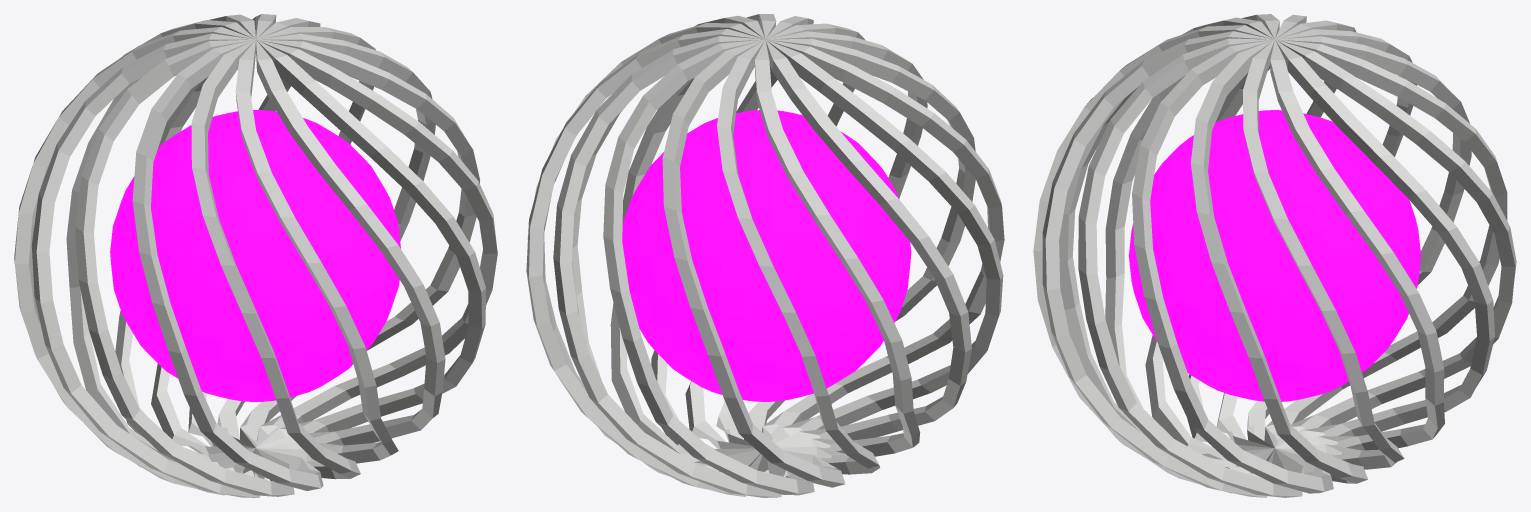
Rendered from player.glb.
3 views of the same model, side by side, from view 1: azimuth 30°, elevation 25°; view 2: azimuth 150°, elevation 25°; view 3: azimuth 270°, elevation 25° (orthographic).
Visible parts, largest first — view 1: Shell, Core; view 2: Shell, Core; view 3: Shell, Core.
Part boxes in pixels (bbox=[...]): Shell: bbox=[14, 14, 497, 497]; Core: bbox=[110, 110, 400, 401]; Shell: bbox=[526, 14, 1004, 497]; Core: bbox=[622, 110, 911, 401]; Shell: bbox=[1033, 14, 1516, 497]; Core: bbox=[1128, 110, 1421, 401].
Size of the model in its own units: 1.06 by 1.03 by 1.06.
